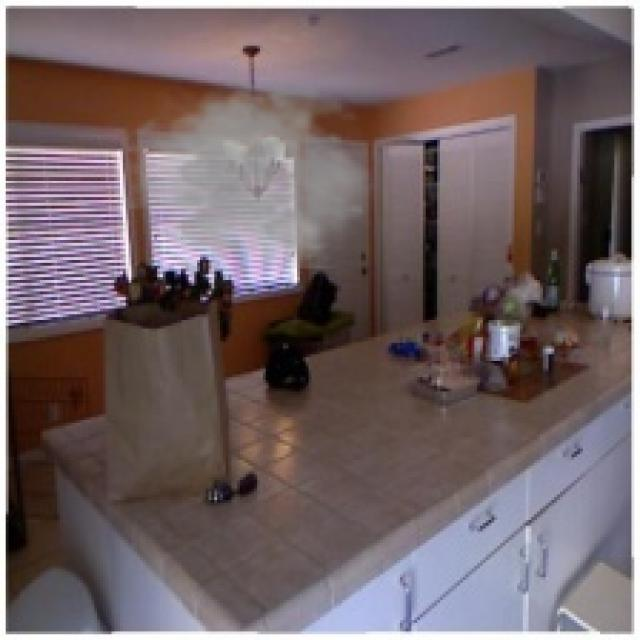smoke: (114, 69, 383, 268)
